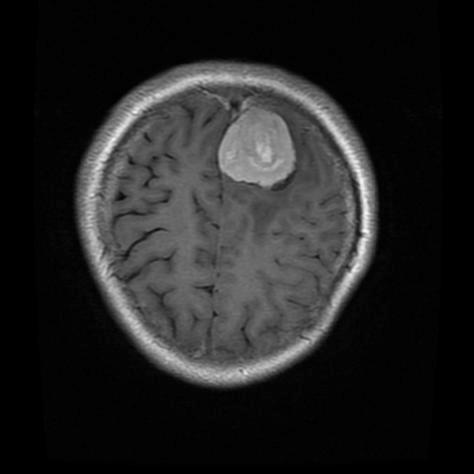Tumour-Pituitary: (187, 87, 311, 206)
